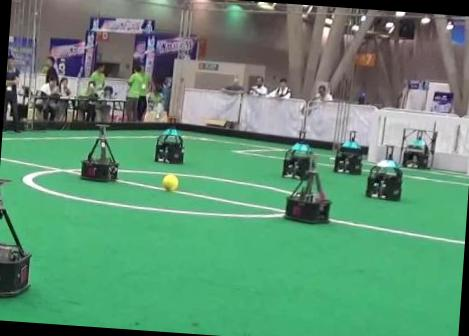ball: (162, 173, 178, 191)
goal: (368, 109, 381, 161)
person: (2, 54, 19, 132)
robot: (0, 195, 30, 296), (285, 170, 330, 222), (80, 134, 117, 180), (333, 130, 367, 173), (365, 159, 401, 199), (283, 141, 315, 178), (154, 127, 182, 162), (403, 139, 429, 169)
